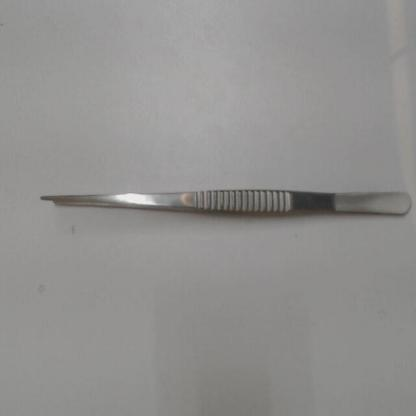DeBakey Dissector: (19, 168, 415, 233)
